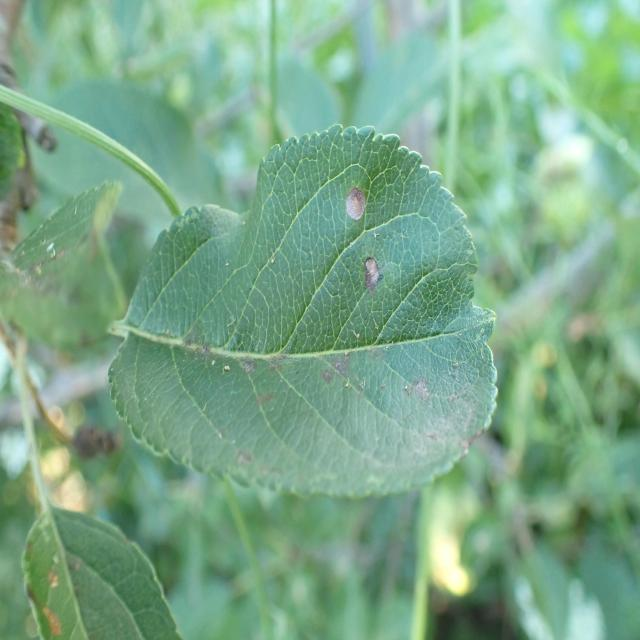frog-eye-leaf-spot: (106, 122, 499, 499)
